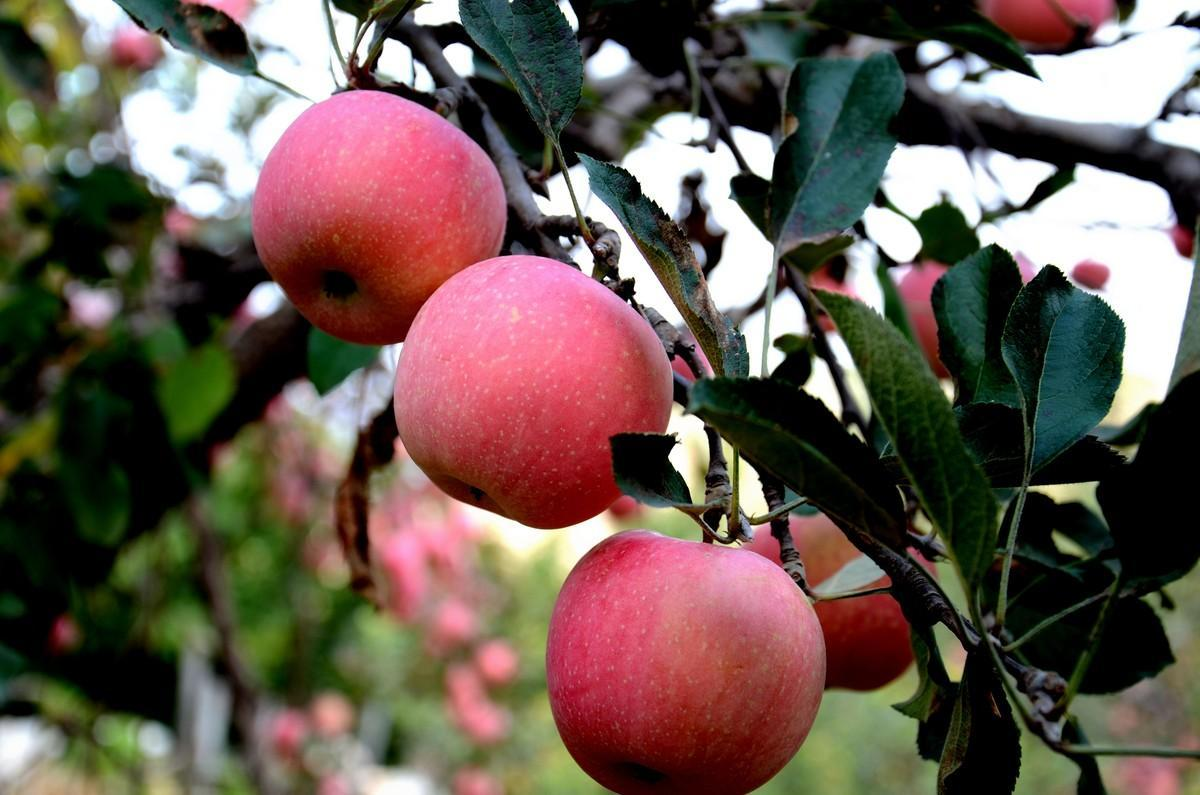apple: (385, 259, 676, 529), (545, 531, 823, 789), (257, 92, 505, 343)
